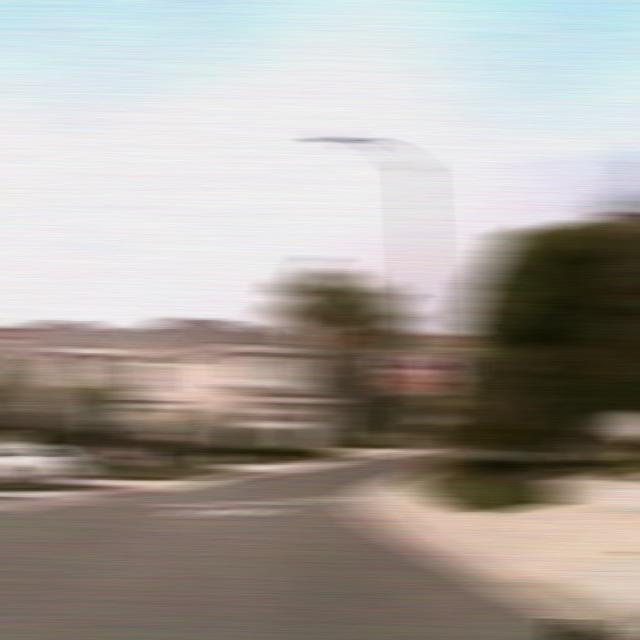stop: (404, 357, 445, 392)
